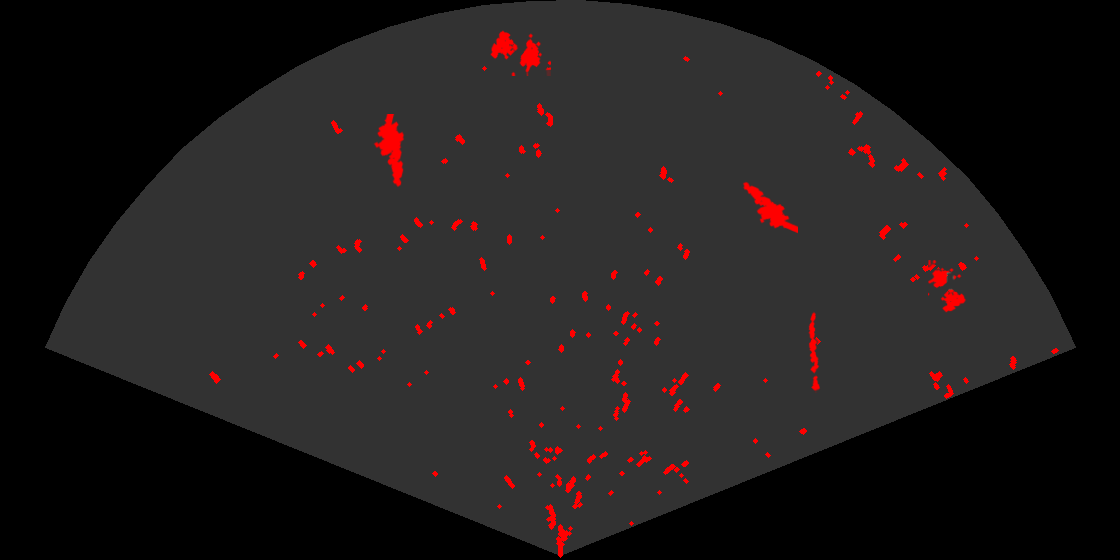cage: (489, 29, 551, 76), (928, 260, 968, 314)
chain: (807, 311, 822, 393)
frogman: (741, 180, 798, 235), (372, 114, 406, 188)
